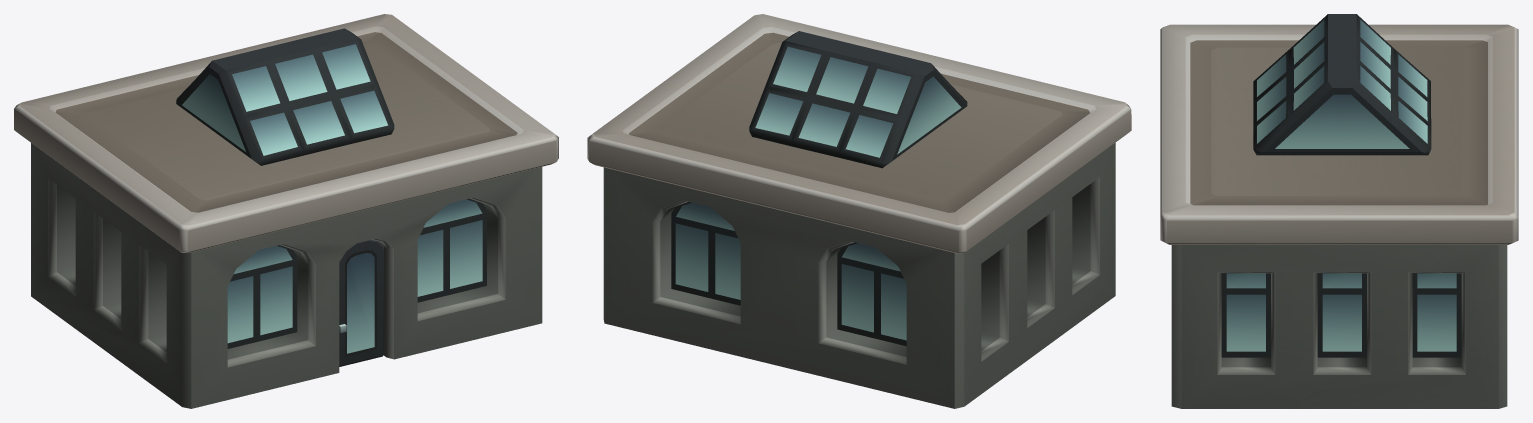
Rendered from office_building_type1_rooftop_floor_grey.fbx.
3 views of the same model, side by side, from view 1: azimuth 30°, elevation 25°; view 2: azimuth 150°, elevation 25°; view 3: azimuth 270°, elevation 25° (orthographic). The views are drawn at different scales.
Parts seen in each view (by area): view 1: office_building_type1_rooftop_floor_grey, door_office_building_type1_rooftop_floor_grey; view 2: office_building_type1_rooftop_floor_grey; view 3: office_building_type1_rooftop_floor_grey.
Part boxes in pixels (x1,y1,x2,y2): office_building_type1_rooftop_floor_grey: (14,14,558,408); door_office_building_type1_rooftop_floor_grey: (339,239,383,366); office_building_type1_rooftop_floor_grey: (587,14,1131,408); office_building_type1_rooftop_floor_grey: (1160,14,1518,408).
Bounding box in the file's own units: 800 × 520 × 625.
